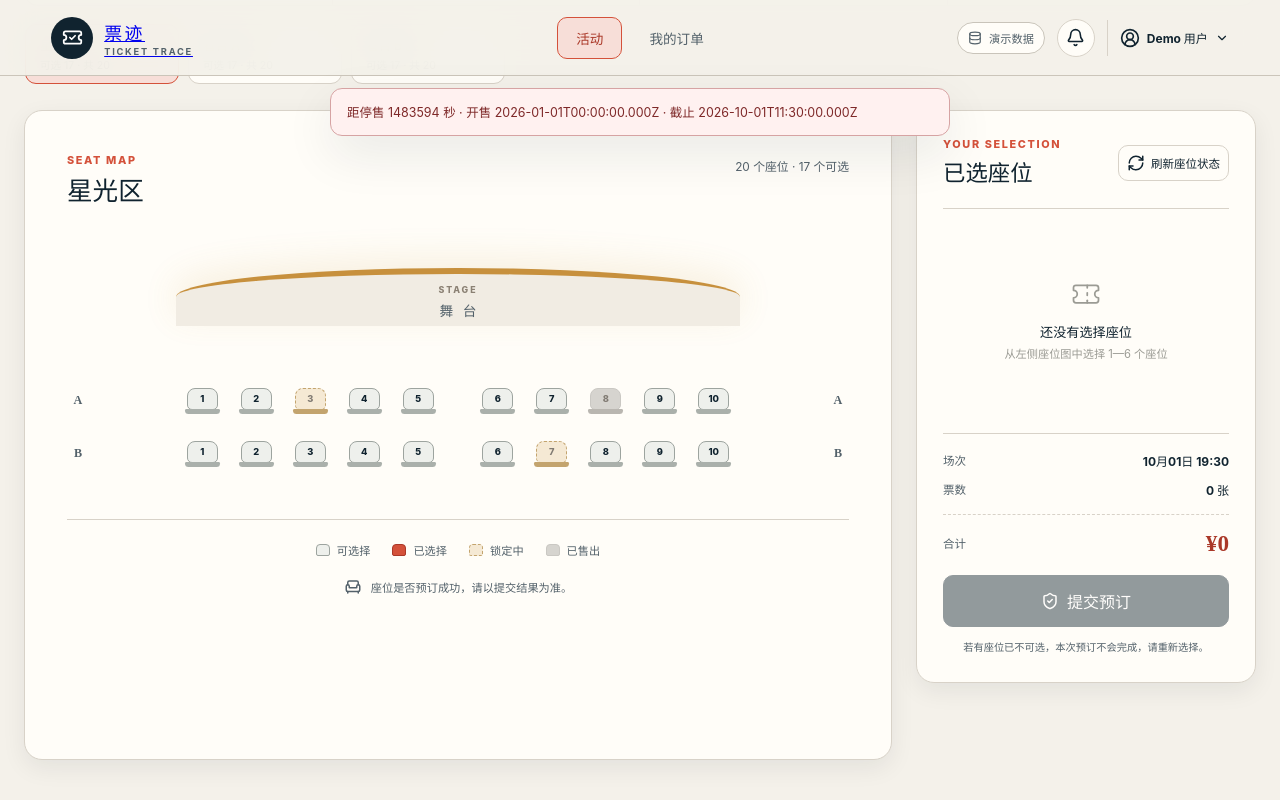
Test: Phase 9 application shell and routes › refreshes exactly once after first checkout conflict (refresh fails: false)
(page scrolled)
Click the button named "A01，可选，¥1,280": point(202, 401) [183, 384, 222, 418]
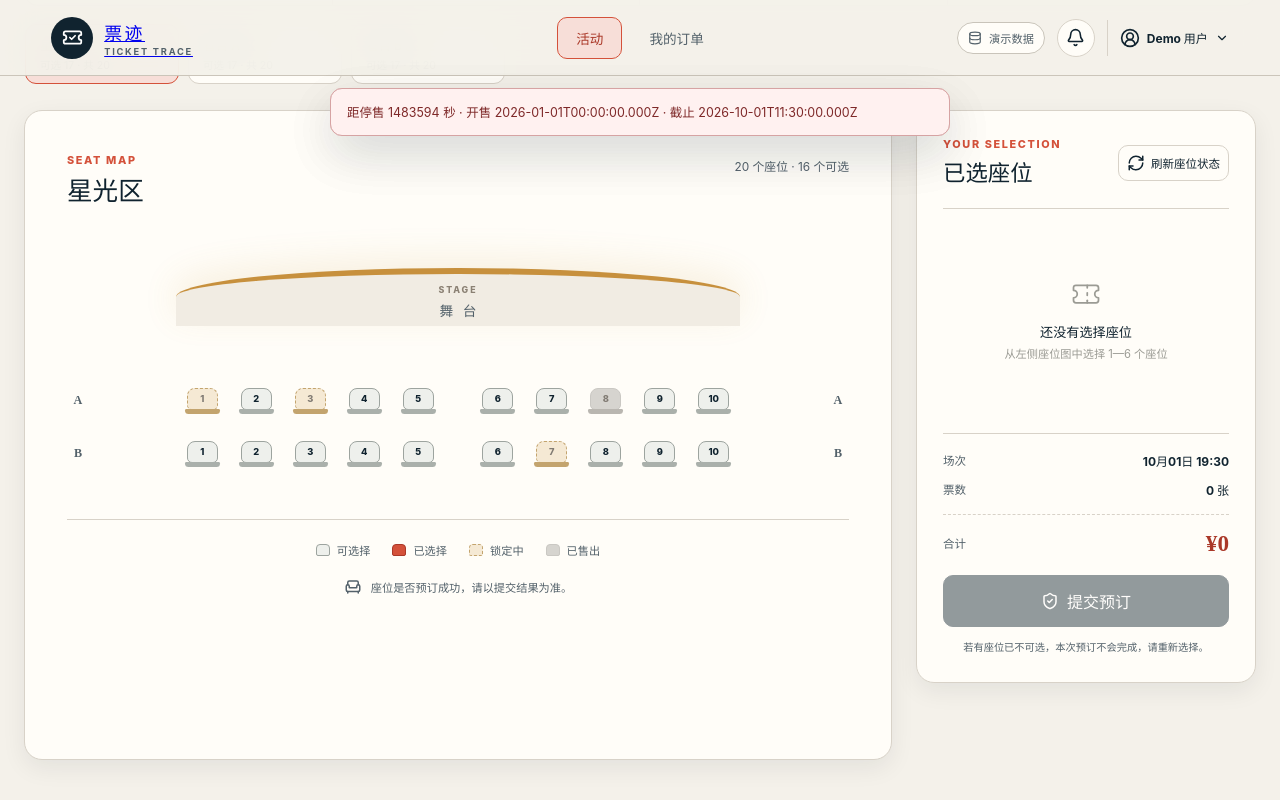
Expected: the message "所选座位刚被其他用户临时锁定，座位状态已刷新，请重新选择。" is shown, [330, 88, 950, 136]
Result: the button named "A01，锁定中，¥1,280" is disabled at [183, 384, 222, 418]
